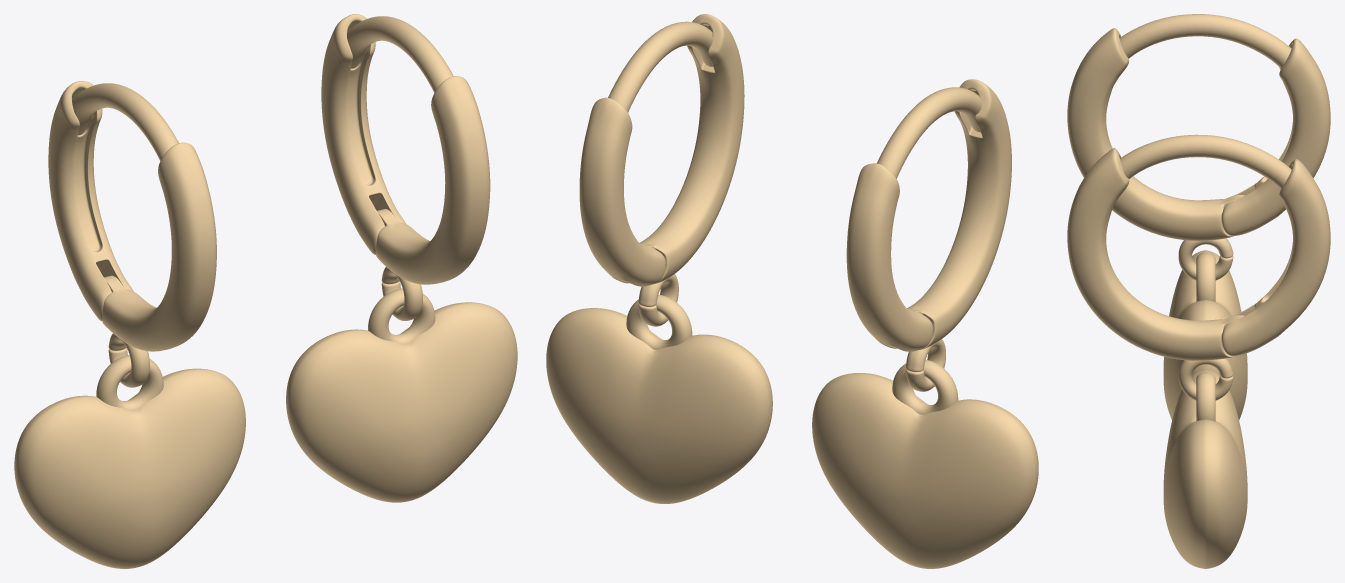
Rendered from earring_B0DSMHTVH3_heart_goldMetal.glb.
3 views of the same model, side by side, from view 1: azimuth 30°, elevation 25°; view 2: azimuth 150°, elevation 25°; view 3: azimuth 270°, elevation 25° (orthographic). The views are drawn at different scales.
Parts seen in each view (by area): view 1: Earring_Right_0, Earring_Left_0; view 2: Earring_Right_0, Earring_Left_0; view 3: Earring_Right_0, Earring_Left_0.
Boxes of the visible parts, bbox=[...] form: Earring_Right_0: bbox=[286, 14, 517, 502]; Earring_Left_0: bbox=[14, 81, 245, 568]; Earring_Right_0: bbox=[546, 14, 772, 503]; Earring_Left_0: bbox=[812, 79, 1038, 568]; Earring_Right_0: bbox=[1067, 134, 1330, 568]; Earring_Left_0: bbox=[1067, 14, 1330, 419].
Size of the model in its own units: 0.0438 by 0.04 by 0.0223.
Materials: 1 (1 with a texture image).
